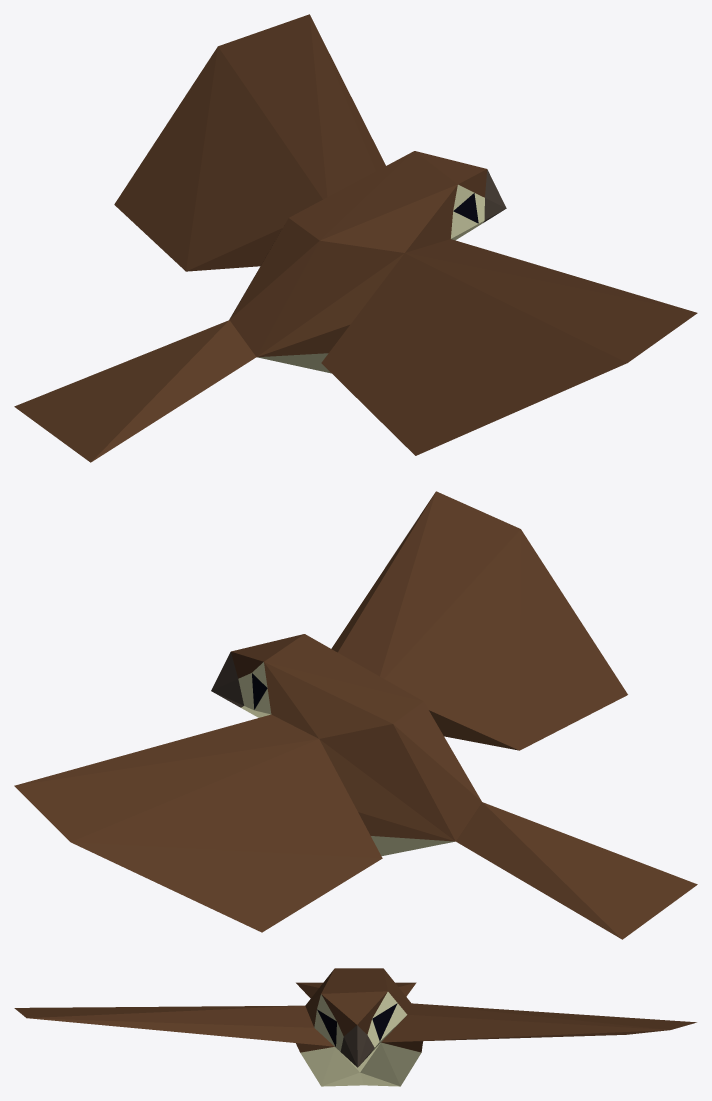
File: Bird with wings.fbx
The picture shows the model from 3 angles, top to bottom: view 1: azimuth 30°, elevation 25°; view 2: azimuth 150°, elevation 25°; view 3: azimuth 270°, elevation 25°; orthographic projection. The views are drawn at different scales.
Parts seen in each view (by area): view 1: Icosphere; view 2: Icosphere; view 3: Icosphere.
Boxes of the visible parts, x1=… form: Icosphere: x1=14, y1=14, x2=697, y2=462; Icosphere: x1=14, y1=491, x2=697, y2=939; Icosphere: x1=14, y1=968, x2=696, y2=1086.
Bounding box in the file's own units: 573 × 211 × 942.
